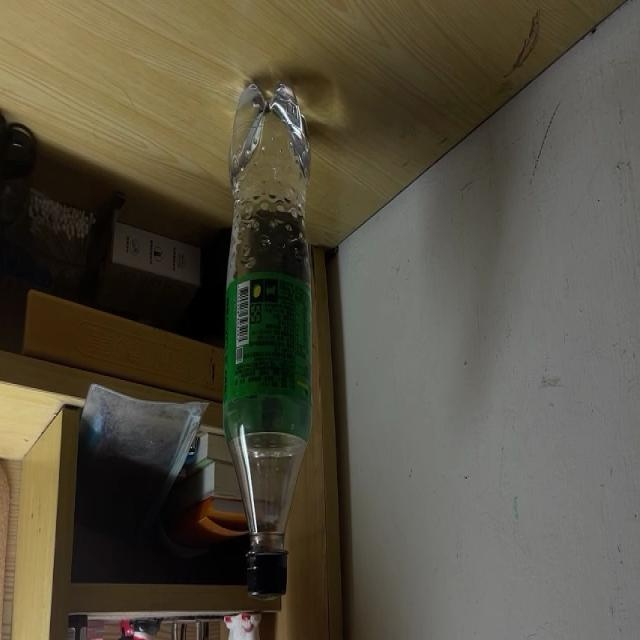Sprite: (225, 78, 310, 600)
